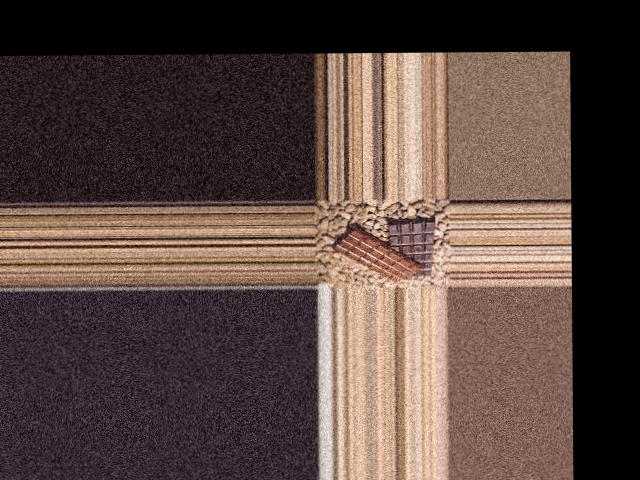chocolate: (387, 214, 441, 280)
